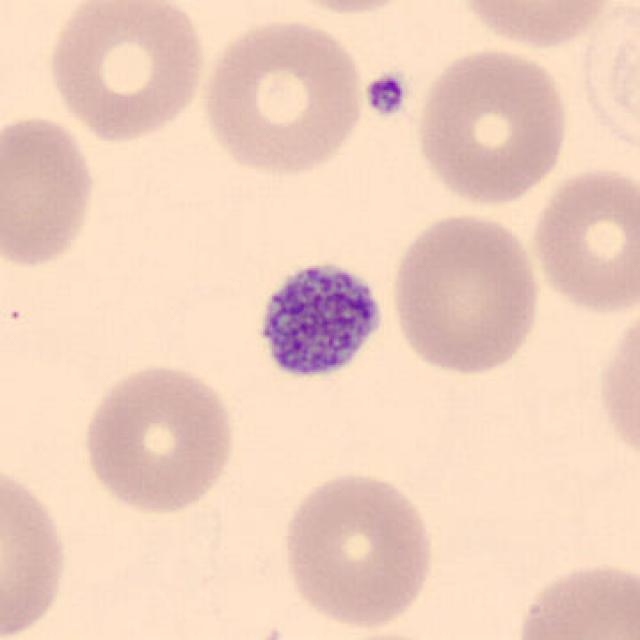platelets: (251, 248, 386, 378), (361, 72, 403, 117)
rbc: (207, 23, 364, 183), (417, 47, 568, 208), (284, 472, 438, 626), (398, 210, 542, 372), (87, 368, 239, 520), (46, 3, 202, 142), (0, 111, 99, 267), (538, 166, 640, 309), (0, 470, 80, 634), (515, 555, 640, 639), (469, 0, 616, 52), (595, 322, 640, 458)
